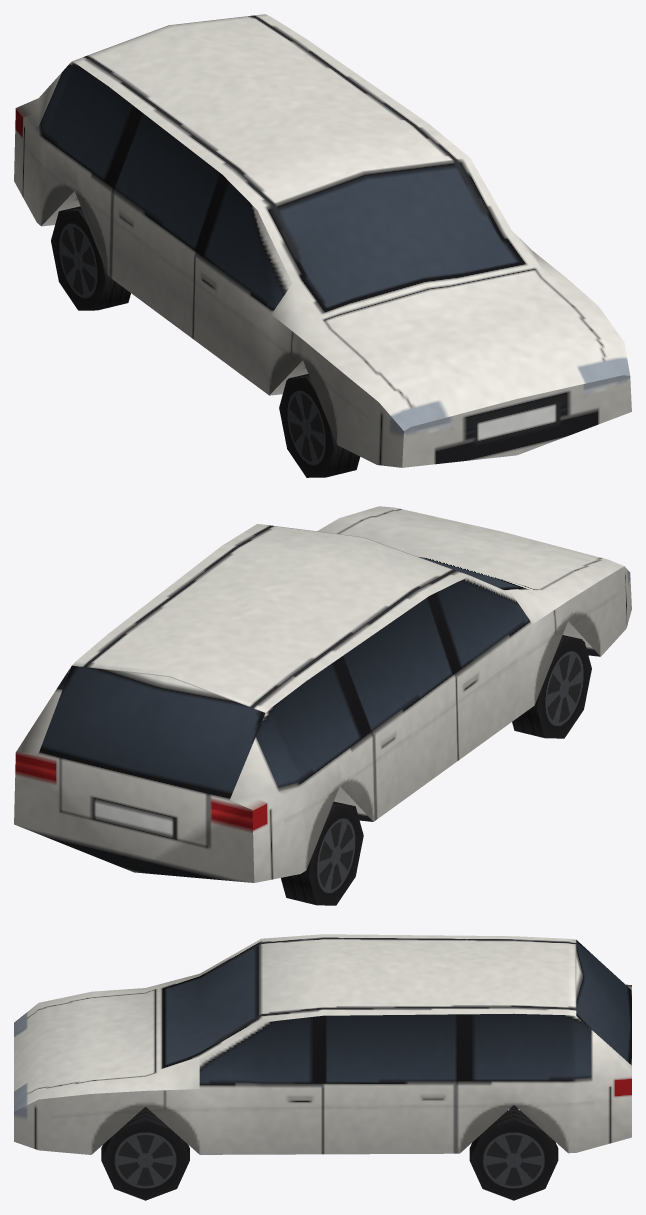
File: SM_Morin_Auto_C_v2_BiancoPerla_LOD2.fbx
3 renders of one model, top to bottom at view 1: azimuth 30°, elevation 25°; view 2: azimuth 150°, elevation 25°; view 3: azimuth 270°, elevation 25°, orthographic. The views are drawn at different scales.
Parts seen in each view (by area): view 1: SM_Morin_Auto_C_v2_BiancoPerla_LOD2; view 2: SM_Morin_Auto_C_v2_BiancoPerla_LOD2; view 3: SM_Morin_Auto_C_v2_BiancoPerla_LOD2.
Boxes of the visible parts, box(x1,y1,x2,y2) form: SM_Morin_Auto_C_v2_BiancoPerla_LOD2: box(14, 14, 631, 477); SM_Morin_Auto_C_v2_BiancoPerla_LOD2: box(14, 506, 631, 905); SM_Morin_Auto_C_v2_BiancoPerla_LOD2: box(14, 934, 631, 1200).
Bounding box in the file's own units: 178 × 445 × 147.
Materials: 1 (1 with a texture image).
